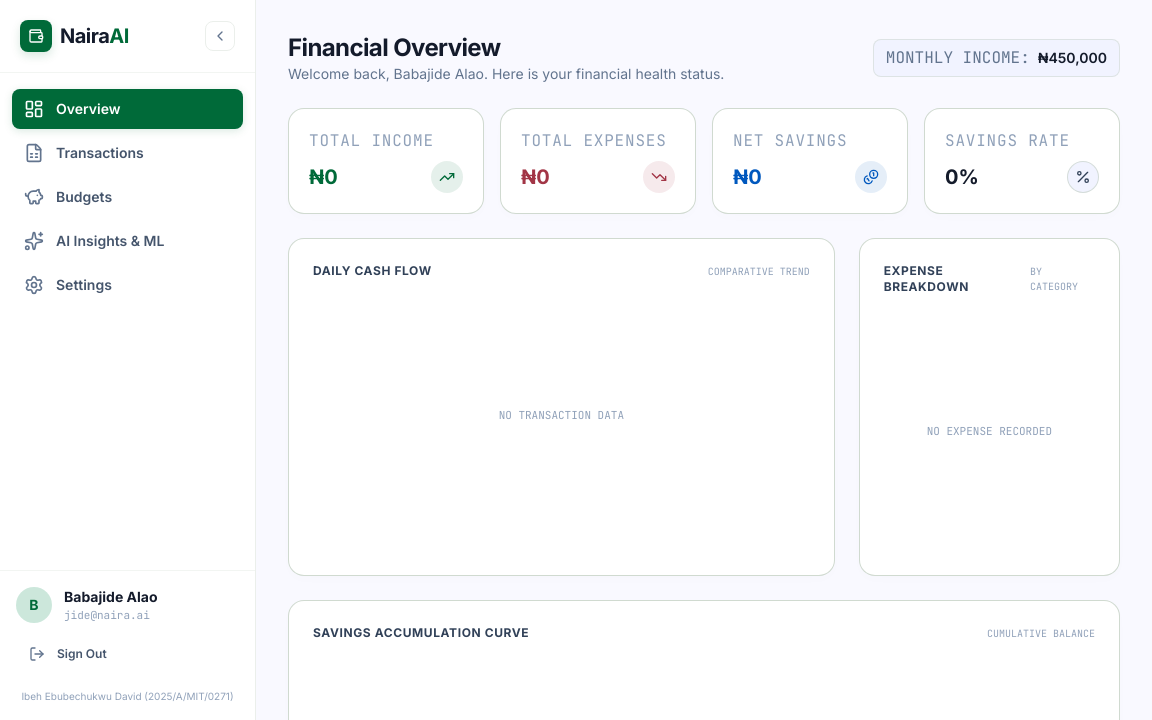
Test case: Budgets tab › shows the empty state with no budgets
Expected: the heading "Financial Overview" is shown, [288,33,500,62]
Click the button "Budgets" at (128, 197), box [12,177,243,217]
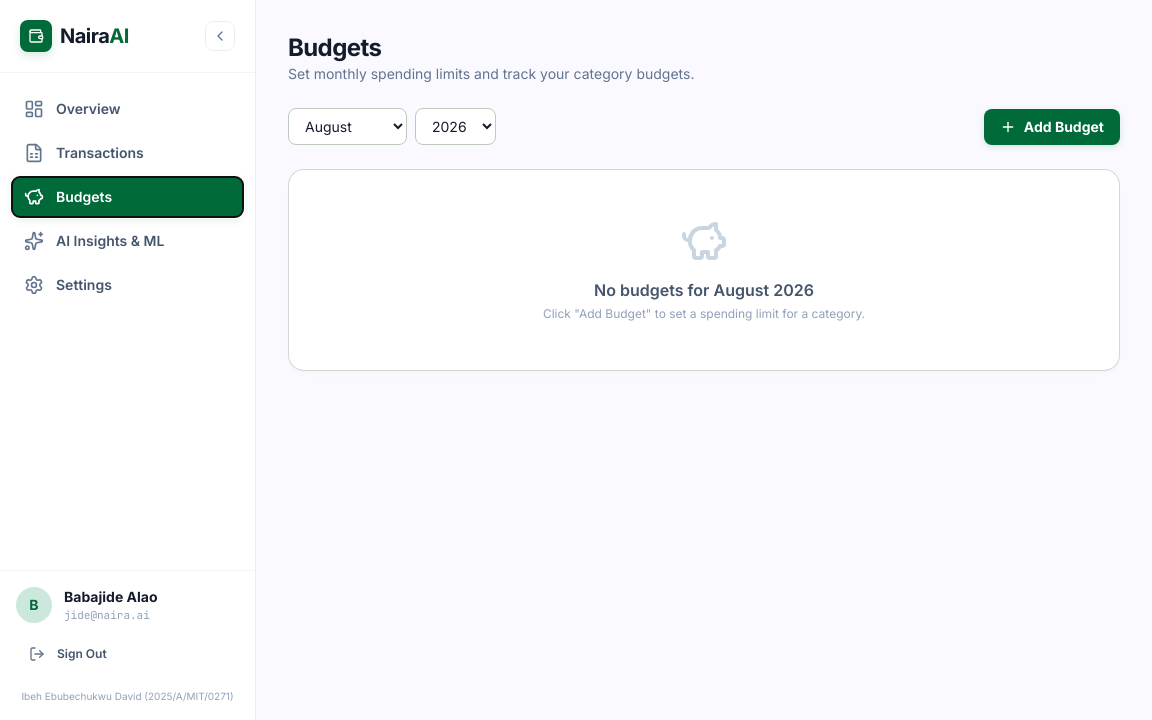
Result: the button "Add Budget" is shown at [984,108,1120,144]
Result: the text "No budgets for August 2026" is shown at [594,280,814,300]
